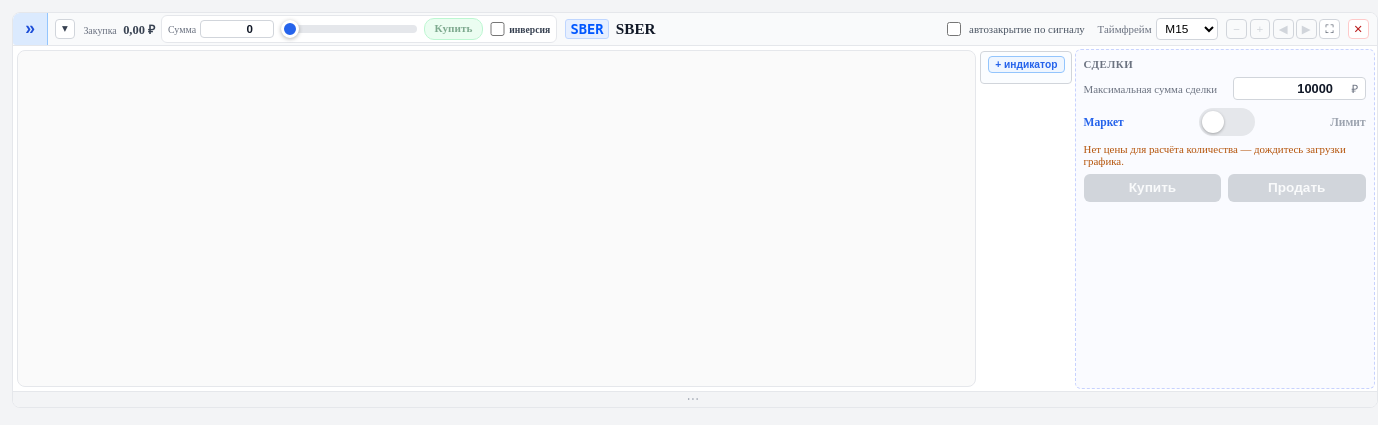
Scenario: TerminalPanelComponent › кнопка-треугольник слева в шапке сворачивает/разворачивает полосу
Click the button with class "tpanel-collapse": {"x": 65, "y": 29} [55,19,75,40]
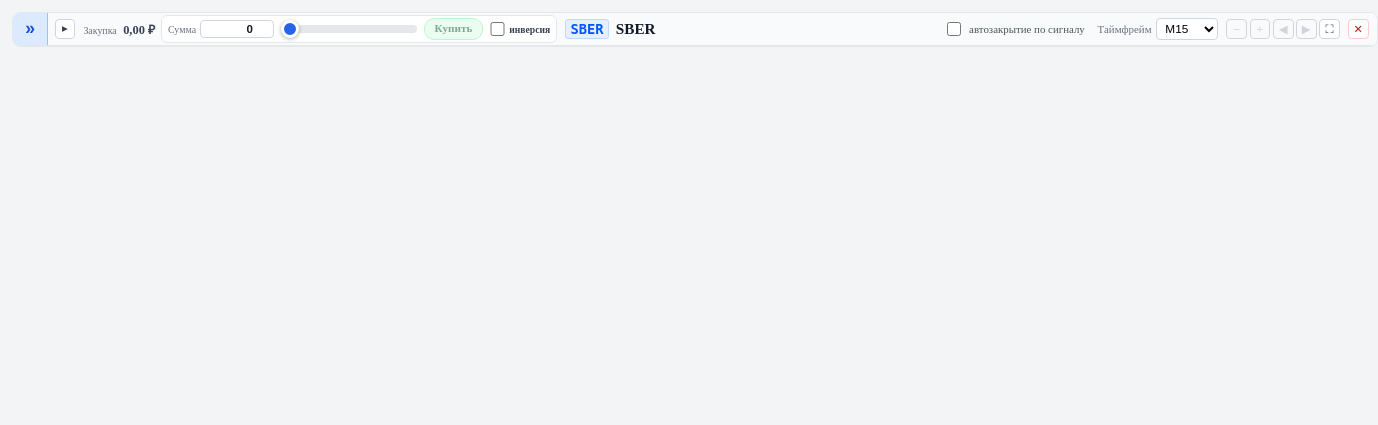
Expected: the button with class "tpanel-collapse" is collapsed
Click the button with class "tpanel-collapse": {"x": 65, "y": 29} [55,19,75,40]
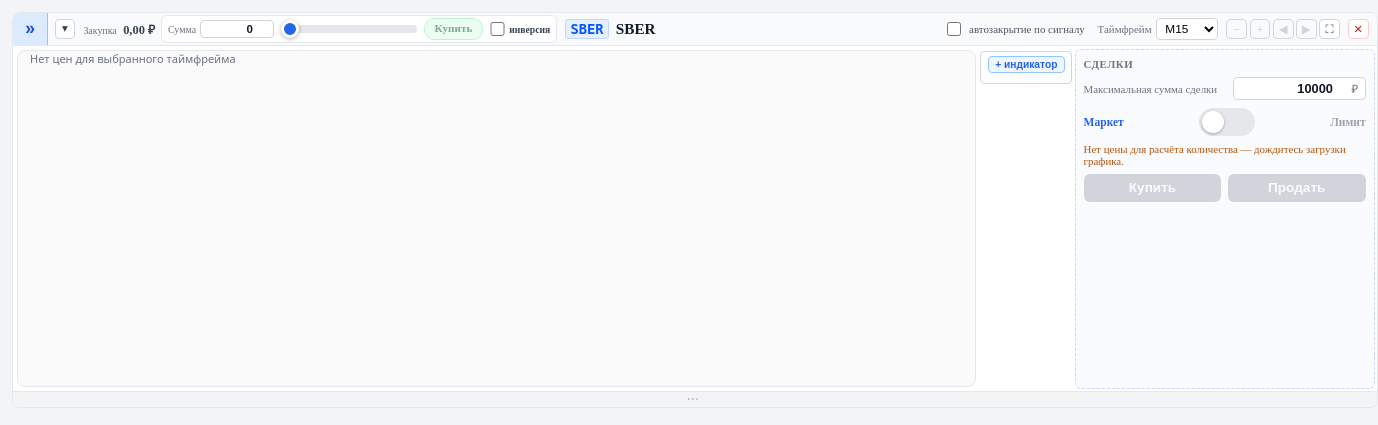
Expected: the button with class "tpanel-collapse" is expanded, [55,19,75,40]
